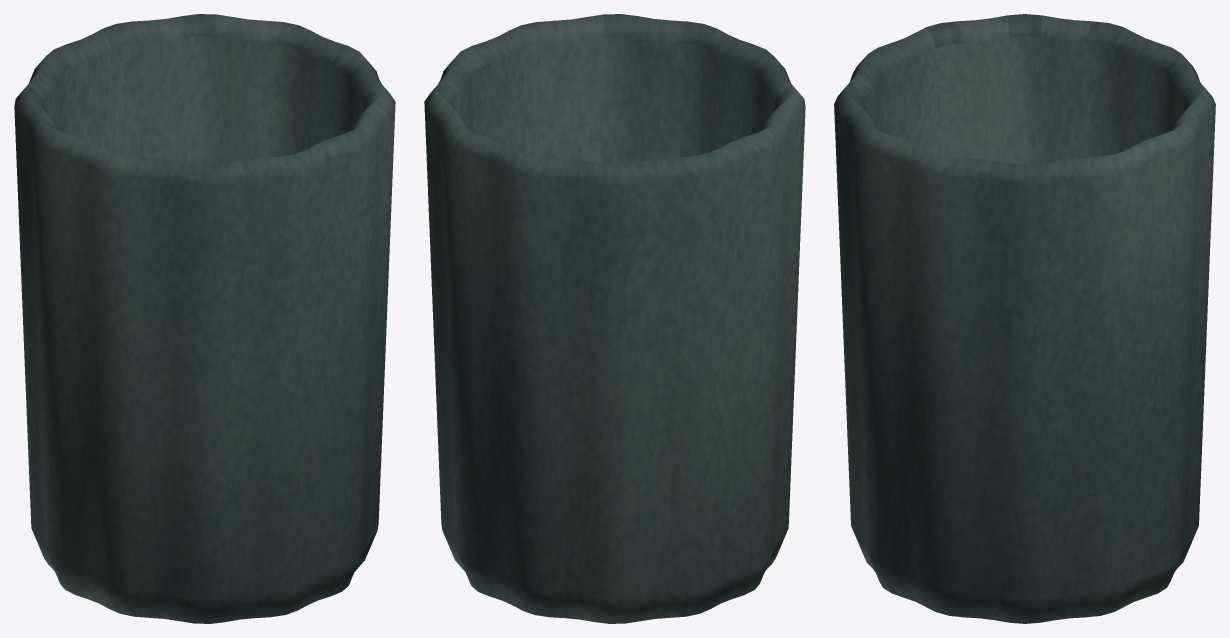
Rendered from Tumbler.fbx.
3 renders of one model, left to right at view 1: azimuth 30°, elevation 25°; view 2: azimuth 150°, elevation 25°; view 3: azimuth 270°, elevation 25°, orthographic.
Parts seen in each view (by area): view 1: Tumbler_GlassPatina; view 2: Tumbler_GlassPatina; view 3: Tumbler_GlassPatina.
Part boxes in pixels (x1,y1,x2,y2): Tumbler_GlassPatina: (14,14,395,623); Tumbler_GlassPatina: (424,14,805,623); Tumbler_GlassPatina: (834,14,1215,623).
Bounding box in the file's own units: 9.2 × 12.4 × 9.2.
